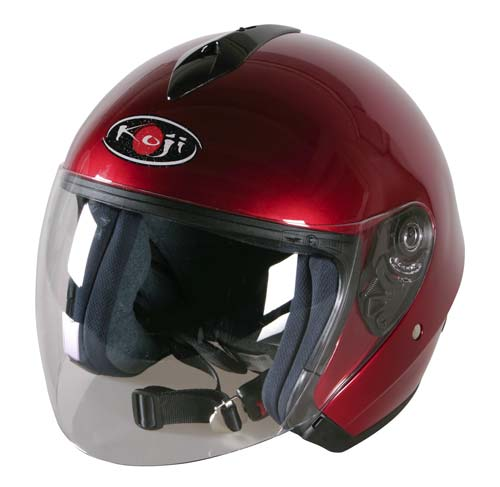helmet: (53, 41, 456, 411)
